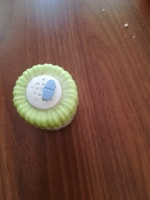Majezik: (42, 79, 56, 102)
